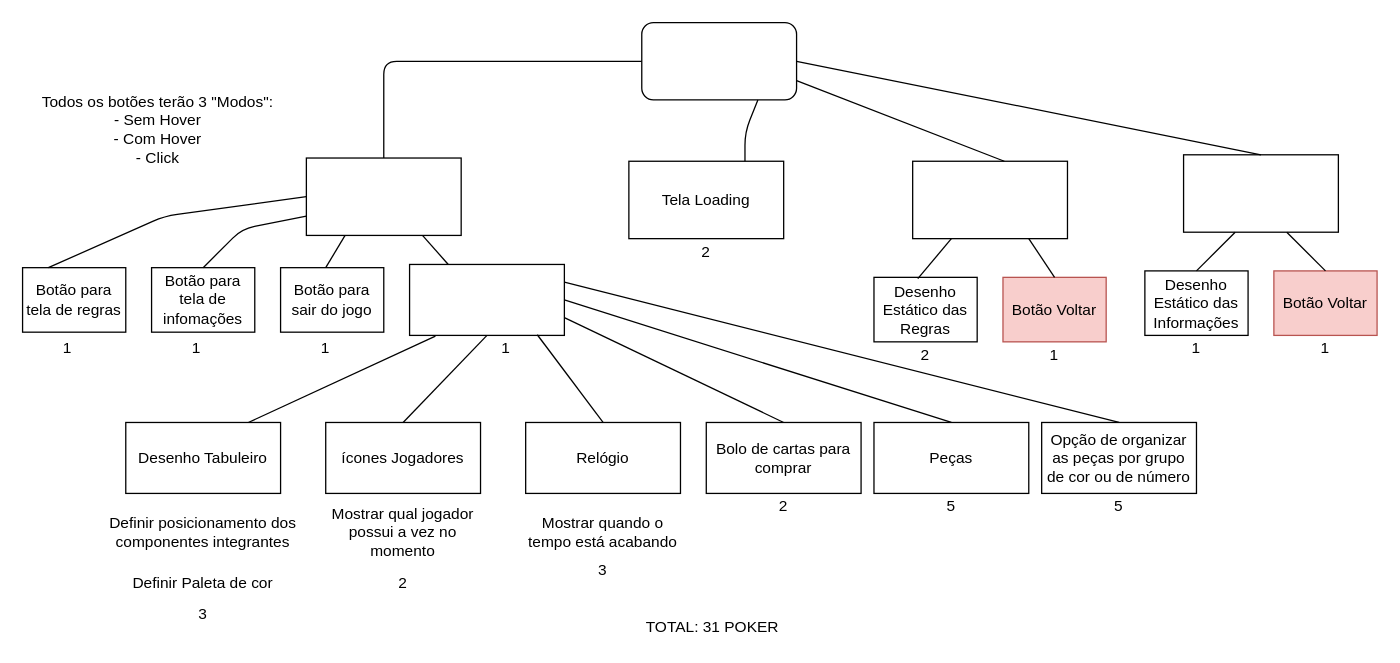
The diagram is 1400 pixels wide and 663 high, and some of its shapes have lost their labels. The centre of each missing label's shape, as x and y in pixels:
Botão Jogar: (x=486, y=299)
Layout: (x=718, y=60)
Tela Informações: (x=1260, y=193)
Tela Menu Prncipal: (x=383, y=196)
Tela Regras: (x=989, y=199)
